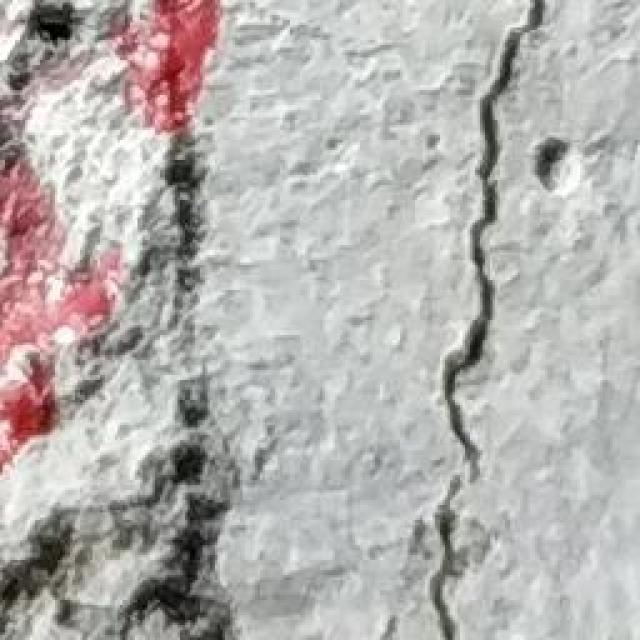Longitudinal: (127, 10, 275, 640), (392, 0, 531, 640)
Rippled: (1, 122, 112, 458)
